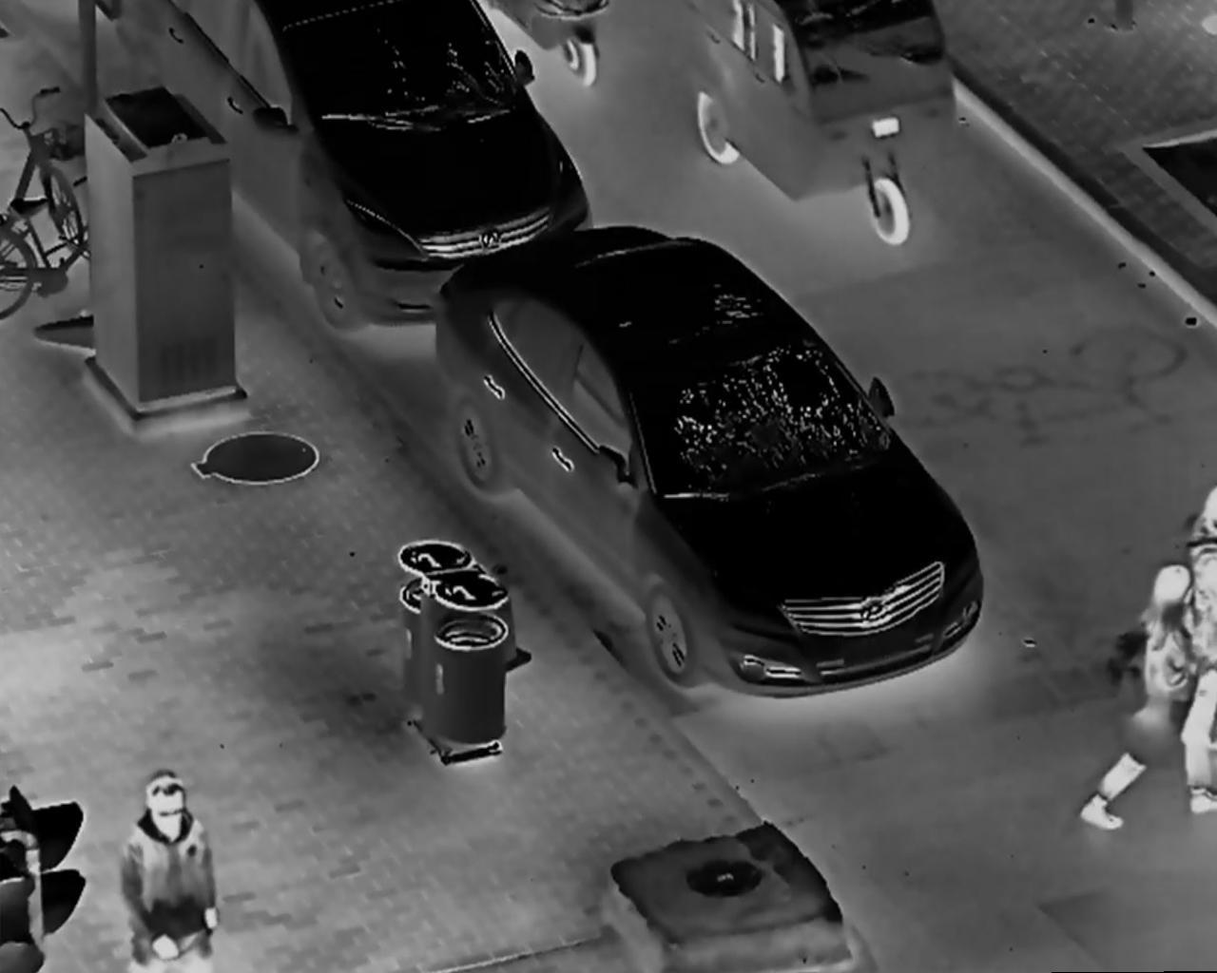person: (1086, 565, 1197, 829), (111, 767, 234, 973), (1171, 478, 1217, 820)
